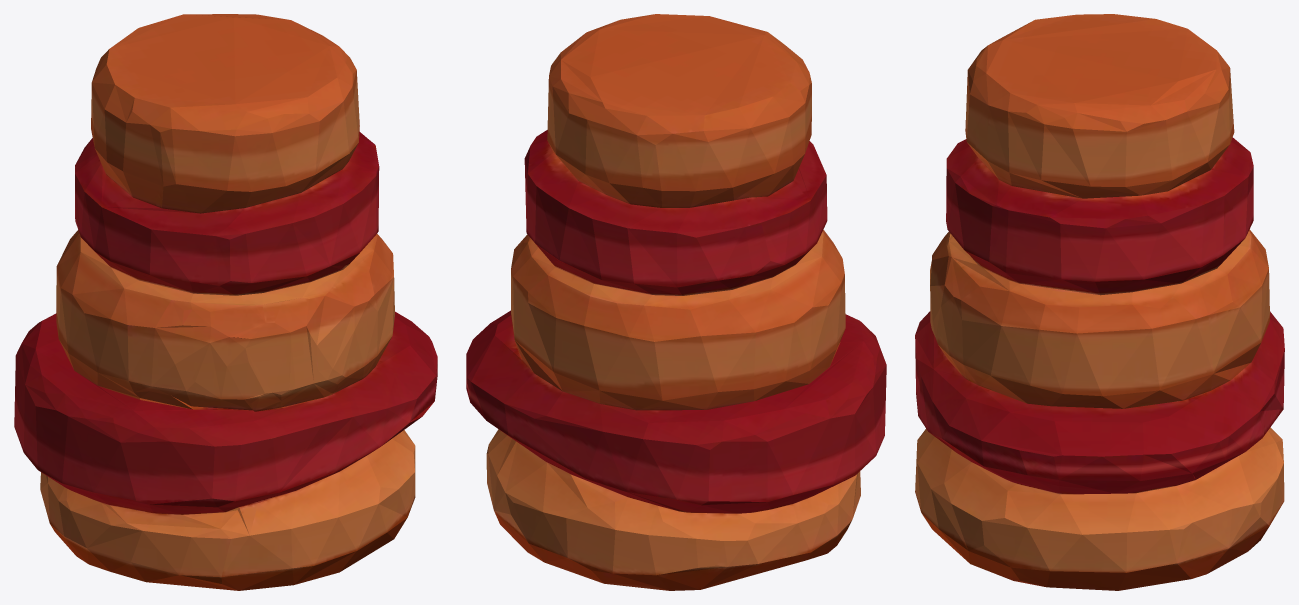
The model's file is rock_canyon.glb.
The picture shows the model from 3 angles, left to right: view 1: azimuth 30°, elevation 25°; view 2: azimuth 150°, elevation 25°; view 3: azimuth 270°, elevation 25°; orthographic projection.
Parts seen in each view (by area): view 1: tmpdw6itu1y.ply; view 2: tmpdw6itu1y.ply; view 3: tmpdw6itu1y.ply.
Part boxes in pixels (bbox=[...]): tmpdw6itu1y.ply: bbox=[14, 14, 437, 590]; tmpdw6itu1y.ply: bbox=[466, 14, 886, 590]; tmpdw6itu1y.ply: bbox=[915, 14, 1284, 590].
Bounding box in the file's own units: 1.66 × 1.99 × 1.44.
1 material, 1 textured.
